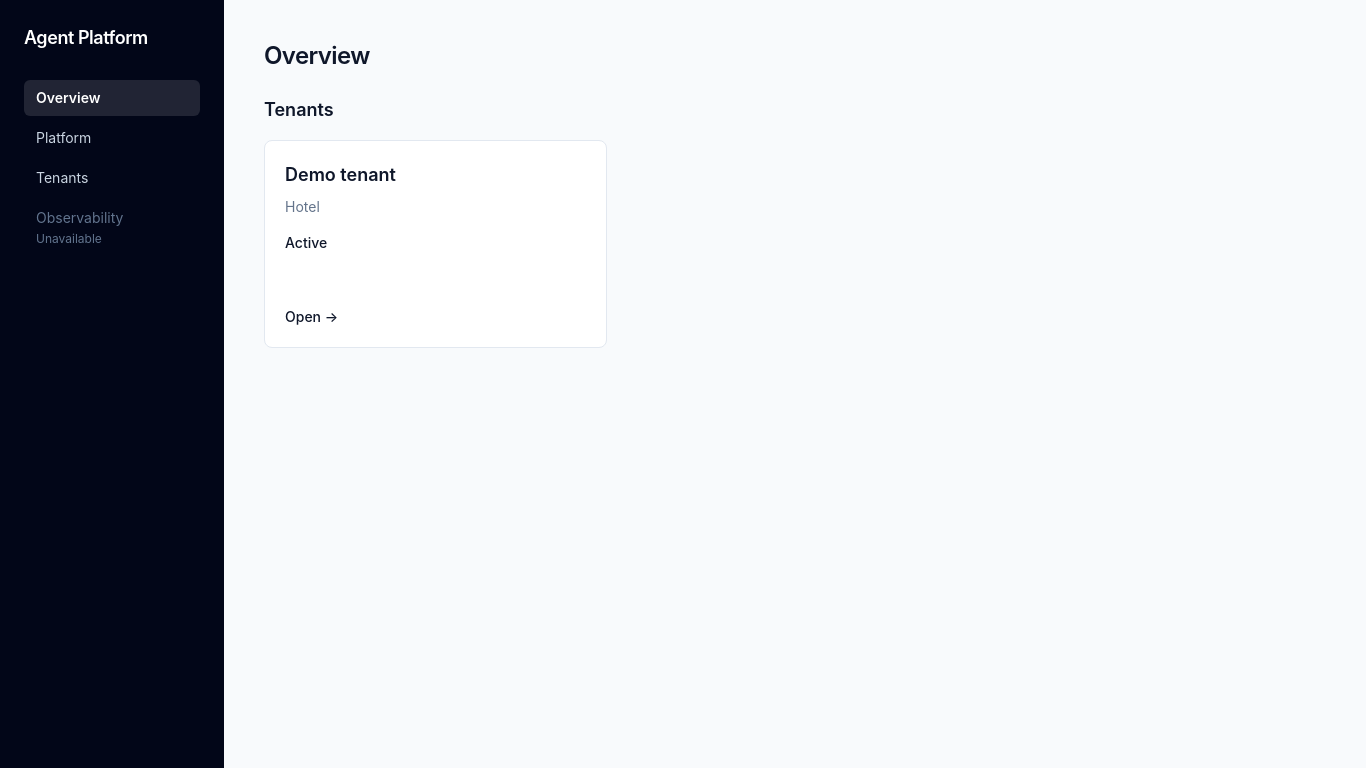
Test case: Admin app shell › exposes current CP tenant authoring navigation
This screenshot has width=1366, height=768.
Step 1. Click the link "Demo tenant hotel active Open →" → (340, 174), box [264,140,607,348]
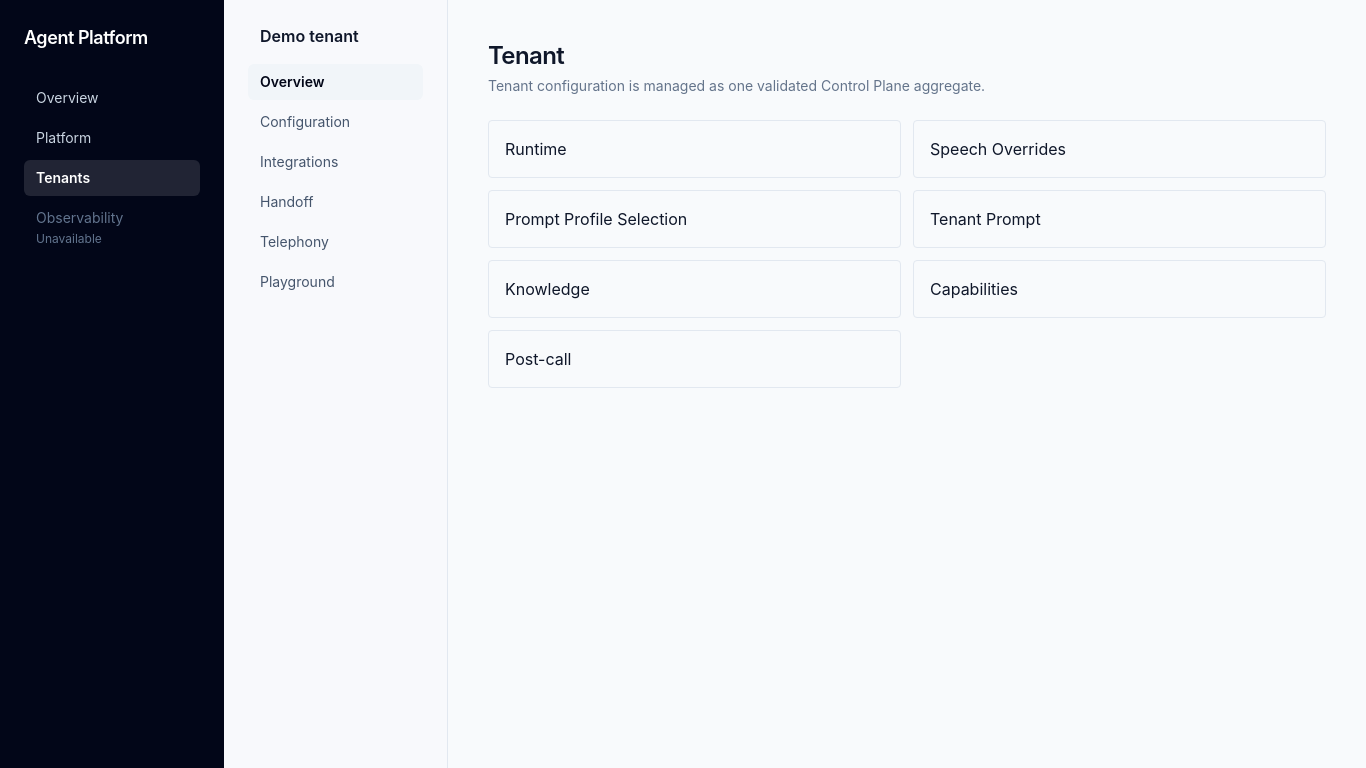
Expected: the link "Configuration" is shown, [260,113,350,130]
Expected: the link "Integrations" is shown, [260,153,338,170]
Expected: the link "Handoff" is shown, [260,193,313,210]
